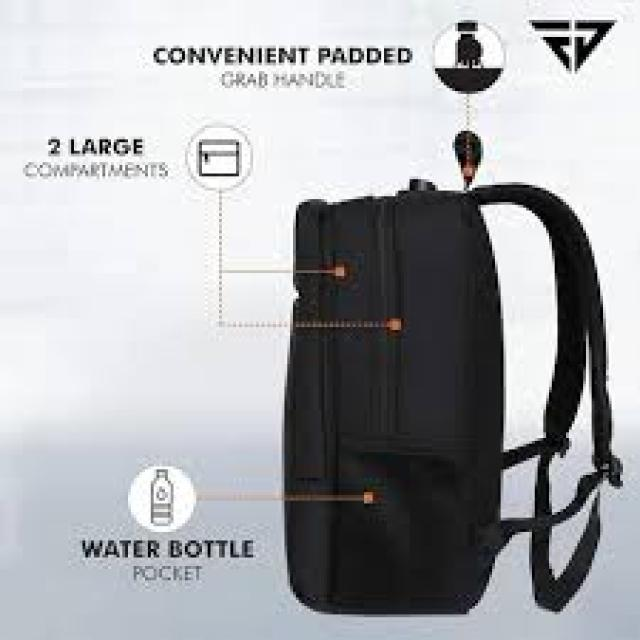backpack: (280, 172, 624, 615)
